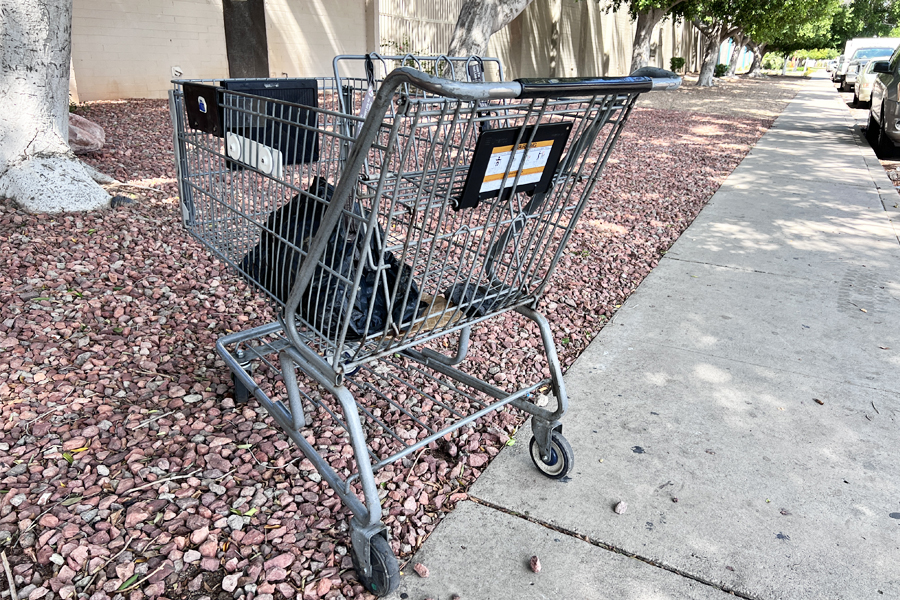shopping_cart: (162, 55, 620, 589)
